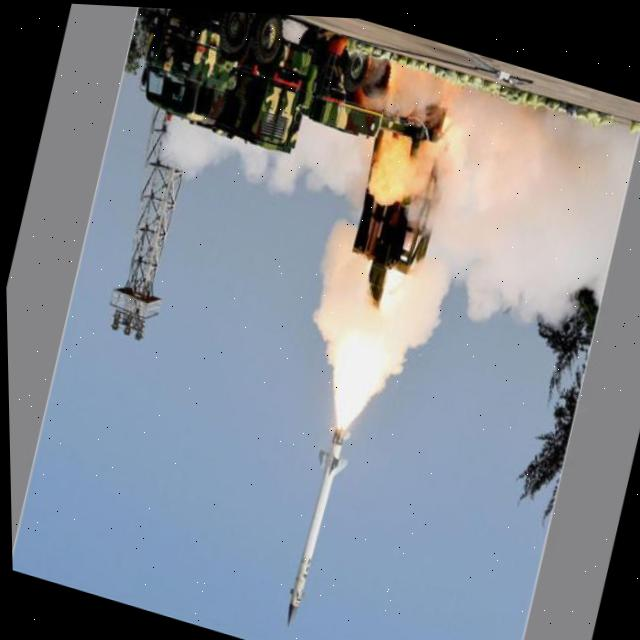missile: (271, 413, 348, 631)
